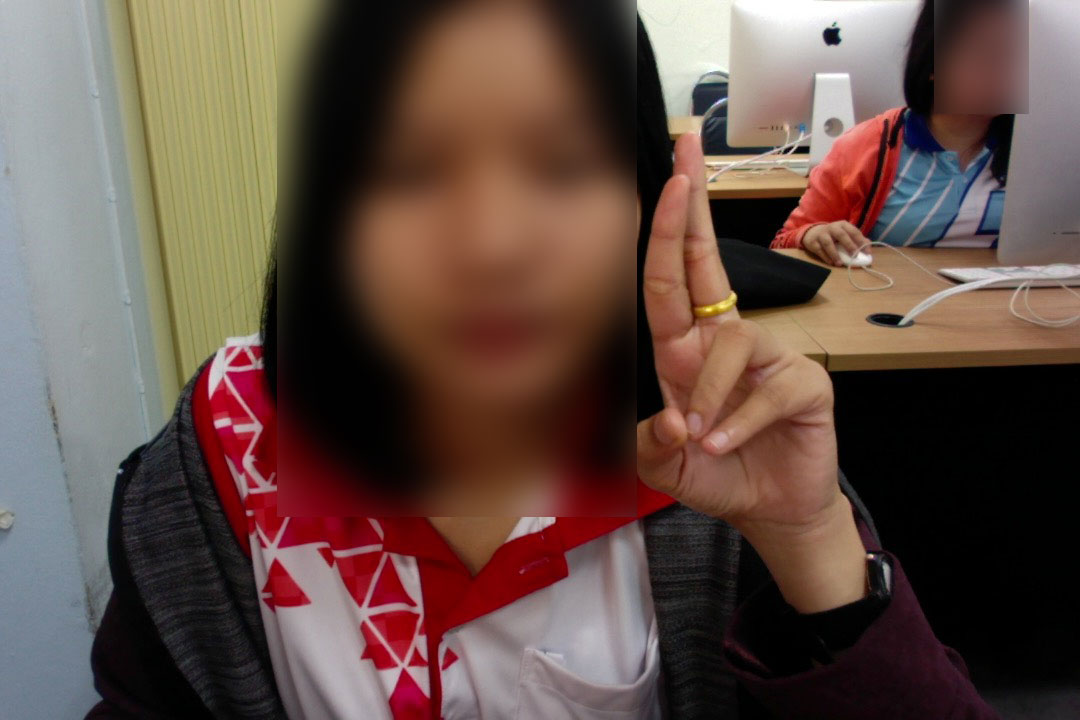rao: (626, 124, 862, 546)
